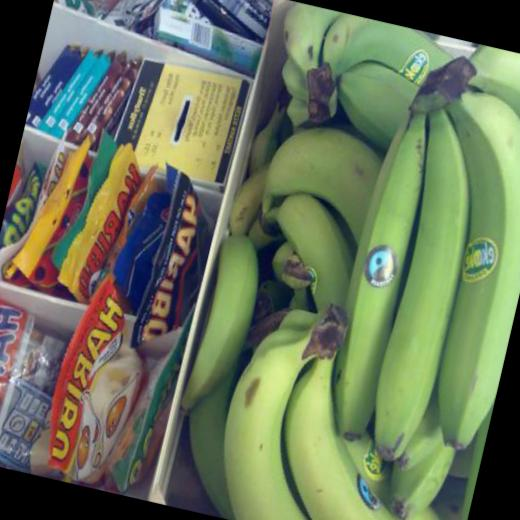Banana: (155, 0, 520, 520), (176, 224, 274, 426)
